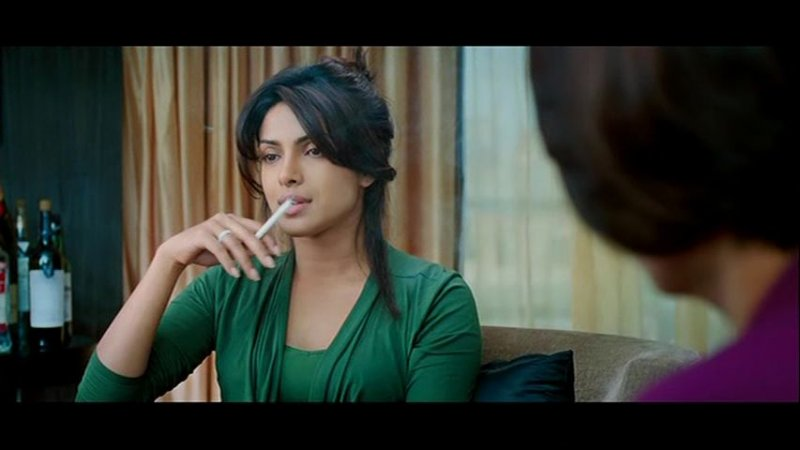cigarette: (250, 197, 293, 246)
